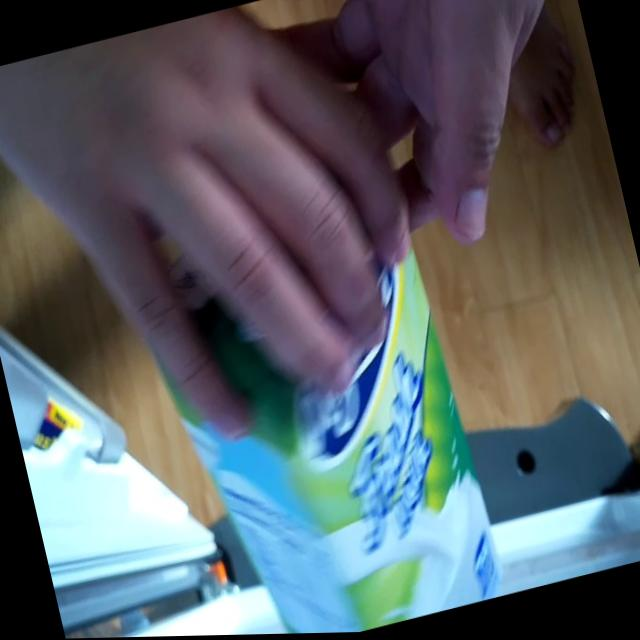milk: (135, 196, 508, 638)
